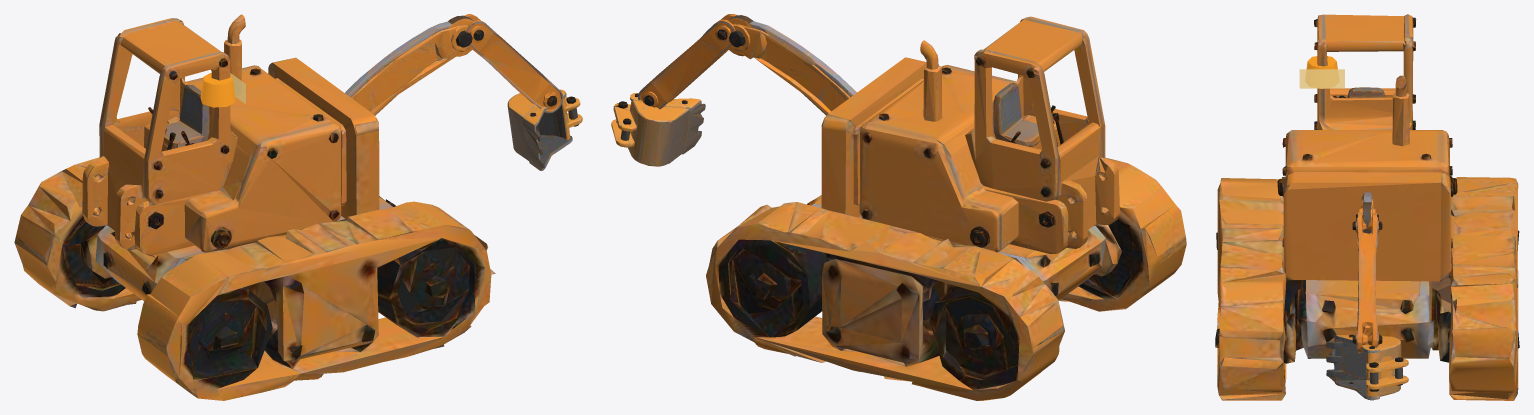
File: excavator_v1.glb
3 renders of one model, left to right at view 1: azimuth 30°, elevation 25°; view 2: azimuth 150°, elevation 25°; view 3: azimuth 270°, elevation 25°, orthographic. The views are drawn at different scales.
Parts seen in each view (by area): view 1: mesh_node (×5), beacon; view 2: mesh_node (×5); view 3: mesh_node (×5), beacon.
Boxes of the visible parts, x1,y1,x2,y2 form: mesh_node (×5): (14,14,582,400); beacon: (200,73,245,107); mesh_node (×5): (611,14,1186,400); mesh_node (×5): (1215,14,1519,400); beacon: (1299,56,1344,88).
Bounding box in the file's own units: 4.07 × 2.35 × 2.29.
Materials: 7 (5 with a texture image).
